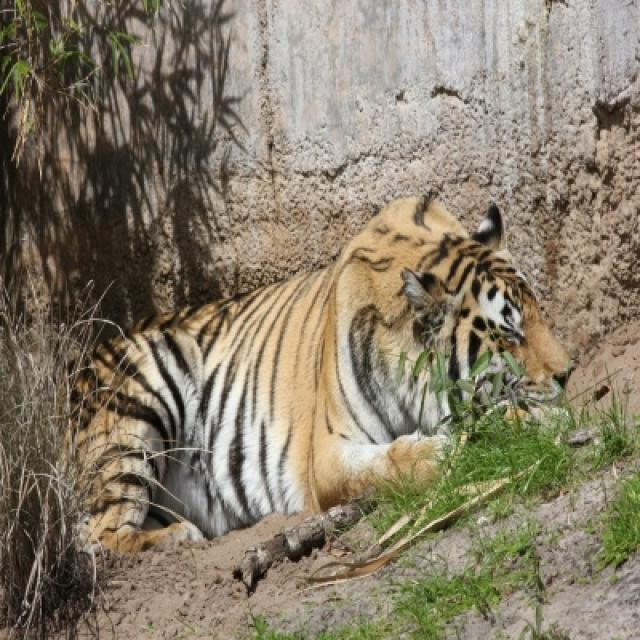Tiger: (75, 195, 568, 552)
